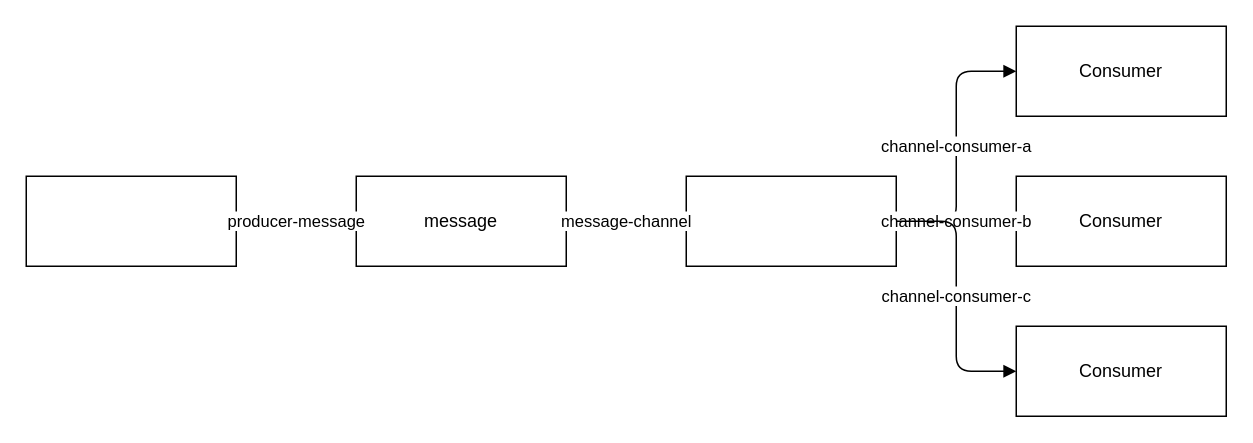
Some shapes in this 1253 by 443 pixel diagram are drawn without their labels. The shapes that lost their labels are listed below. From the top down, each one's centre as x and y in pixels, then its label:
At (x=130, y=220): "Producer".
At (x=790, y=220): "Channel".
